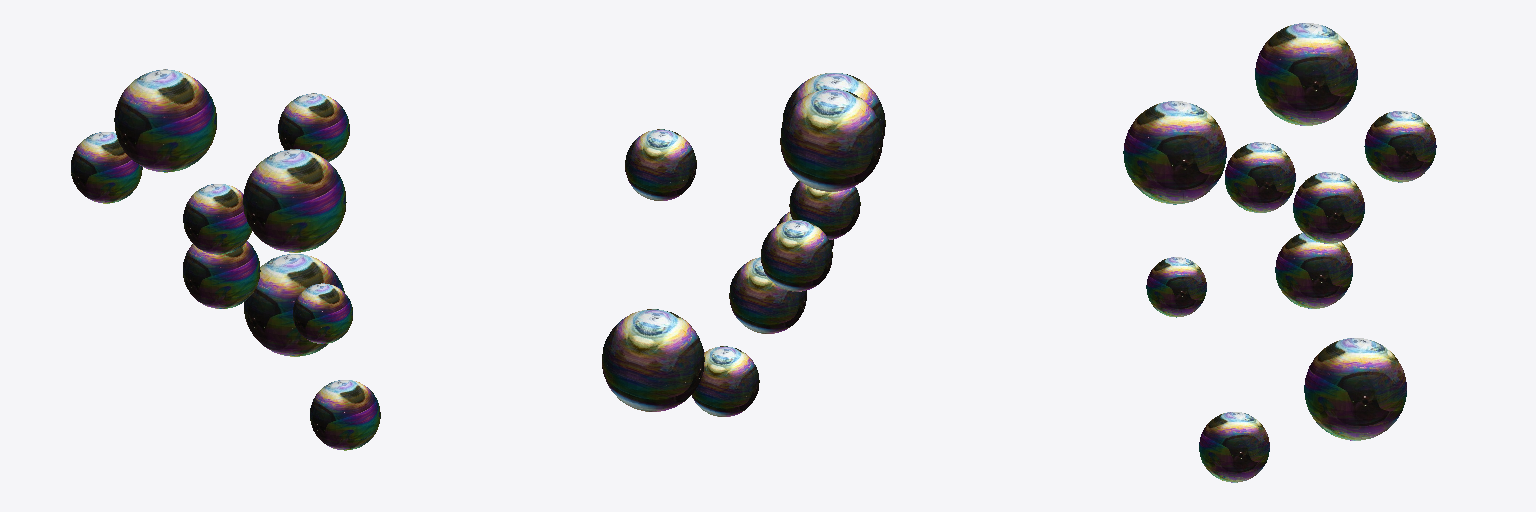
The picture shows the model from 3 angles: view 1: azimuth 30°, elevation 25°; view 2: azimuth 150°, elevation 25°; view 3: azimuth 270°, elevation 25°; orthographic projection.
Visible parts, largest first — view 1: Sphere.000_Sphere.007, Sphere.003_Sphere.010, Sphere.007_Sphere.013, Sphere.001_Sphere.008, Sphere.005, Sphere.006_Sphere.012, Sphere.004_Sphere.011, Sphere.008_Sphere.014, Sphere.002_Sphere.009; view 2: Sphere.007_Sphere.013, Sphere.003_Sphere.010, Sphere.004_Sphere.011, Sphere.008_Sphere.014, Sphere.005, Sphere.001_Sphere.008, Sphere.006_Sphere.012, Sphere.000_Sphere.007; view 3: Sphere.000_Sphere.007, Sphere.007_Sphere.013, Sphere.003_Sphere.010, Sphere.005, Sphere.008_Sphere.014, Sphere.004_Sphere.011, Sphere.006_Sphere.012, Sphere.001_Sphere.008, Sphere.002_Sphere.009.
Part boxes in pixels (x1,y1,x2,y2): Sphere.000_Sphere.007: (243,149,346,252); Sphere.003_Sphere.010: (114,69,216,172); Sphere.007_Sphere.013: (244,254,344,356); Sphere.001_Sphere.008: (310,380,380,450); Sphere.005: (183,241,260,308); Sphere.006_Sphere.012: (183,184,251,254); Sphere.004_Sphere.011: (71,132,142,203); Sphere.008_Sphere.014: (278,93,349,161); Sphere.002_Sphere.009: (293,283,352,343); Sphere.007_Sphere.013: (602,309,704,411); Sphere.003_Sphere.010: (780,89,882,191); Sphere.004_Sphere.011: (761,220,832,291); Sphere.008_Sphere.014: (625,129,696,200); Sphere.005: (729,257,806,333); Sphere.001_Sphere.008: (692,346,759,416); Sphere.006_Sphere.012: (789,181,860,239); Sphere.000_Sphere.007: (782,73,885,138); Sphere.000_Sphere.007: (1123,101,1226,204); Sphere.007_Sphere.013: (1304,338,1406,440); Sphere.003_Sphere.010: (1255,23,1357,125); Sphere.005: (1275,233,1352,308); Sphere.008_Sphere.014: (1293,172,1364,243); Sphere.004_Sphere.011: (1364,111,1436,182); Sphere.006_Sphere.012: (1225,142,1295,212); Sphere.001_Sphere.008: (1199,412,1269,482); Sphere.002_Sphere.009: (1146,257,1206,317).
Size of the model in its own units: 4.67 by 7 by 5.21.
1 materials, 1 textured.